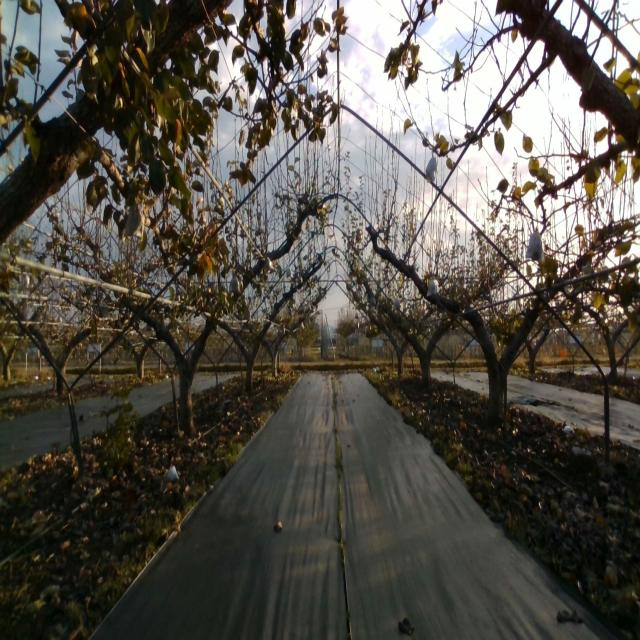pearbags: (124, 200, 145, 242), (525, 227, 542, 265), (424, 152, 439, 184), (228, 275, 242, 295), (426, 277, 440, 297), (264, 255, 274, 276)
